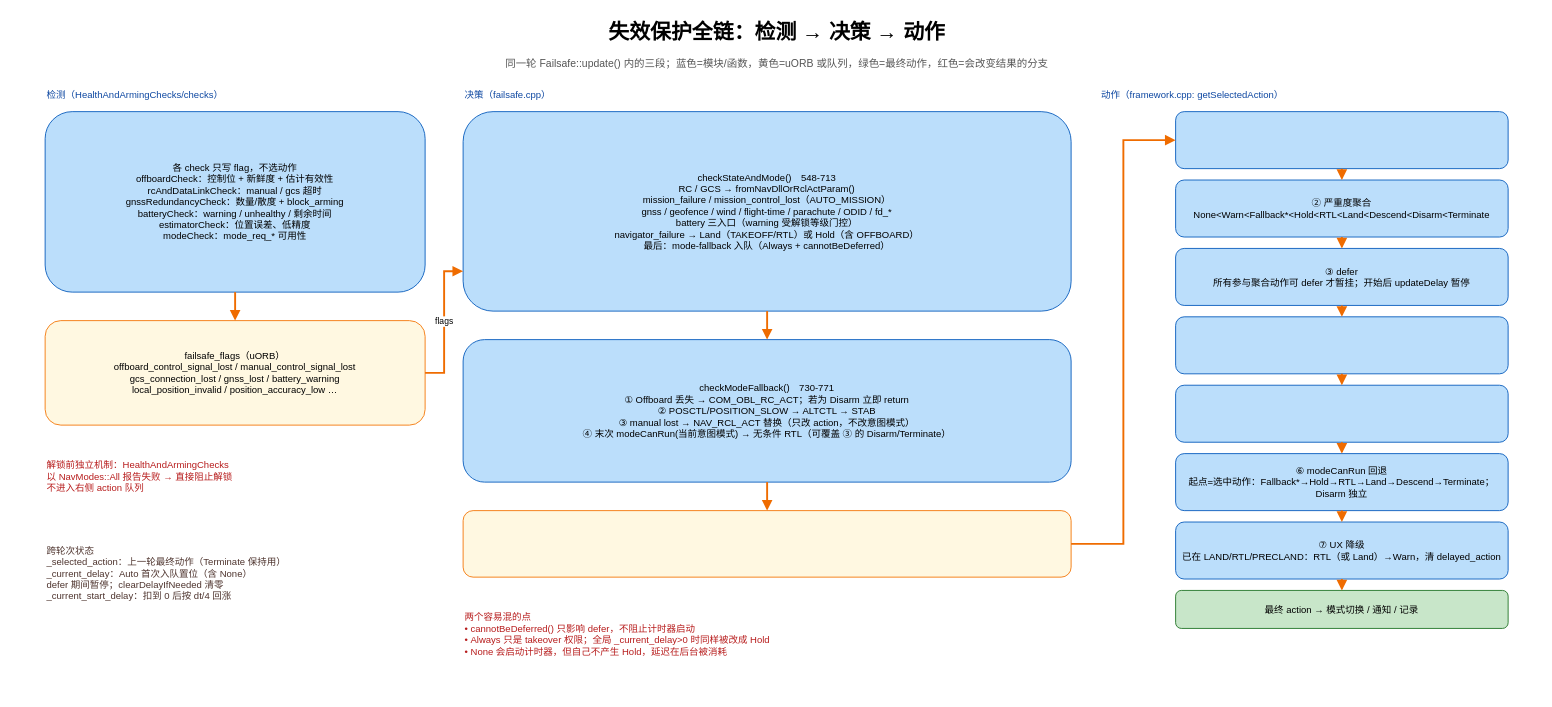
The diagram is 1552 pixels wide and 707 high, and some of its shapes have lost their labels. The shapes that lost their labels are listed below. From the top down, each one's box as (x1, y1, x2, y2) in pixels, then its label:
(1175, 111, 1508, 169): ① Terminate 保持 → armed 门控 先 Terminate，再判 armed
(1175, 316, 1508, 374): ④ Hold 延迟 _current_delay>0 且未接管且 takeover≤AlwaysModeSwitchOnly 且动作可延迟
(1175, 384, 1508, 442): ⑤ 用户接管 仅 Hold/RTL/Land/Descend → Warn，清 delayed_action；再跑 checkModeFallback
(462, 510, 1071, 577): _actions[8]：每 caller 一条；None 占槽位不参与聚合；槽满替换最后一个更低槽，否则不入队（不初始化延迟）
